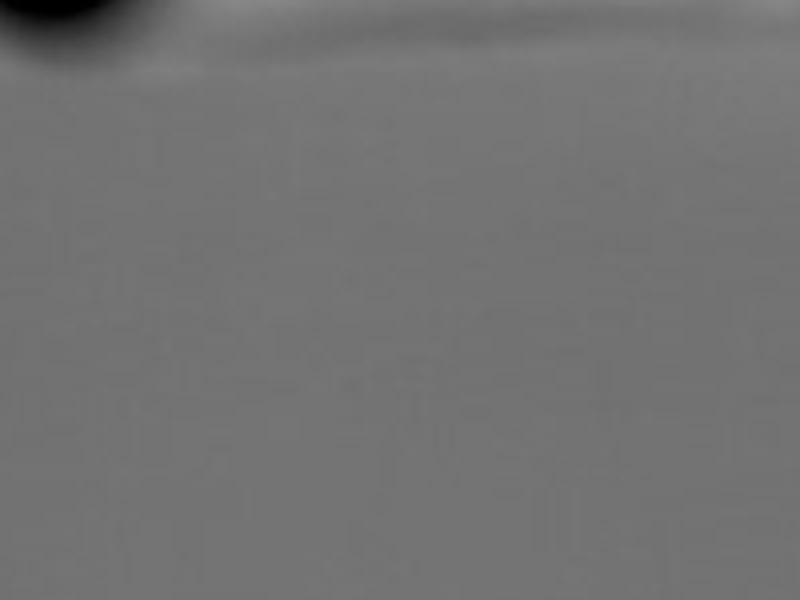defect: (1, 1, 128, 37)
